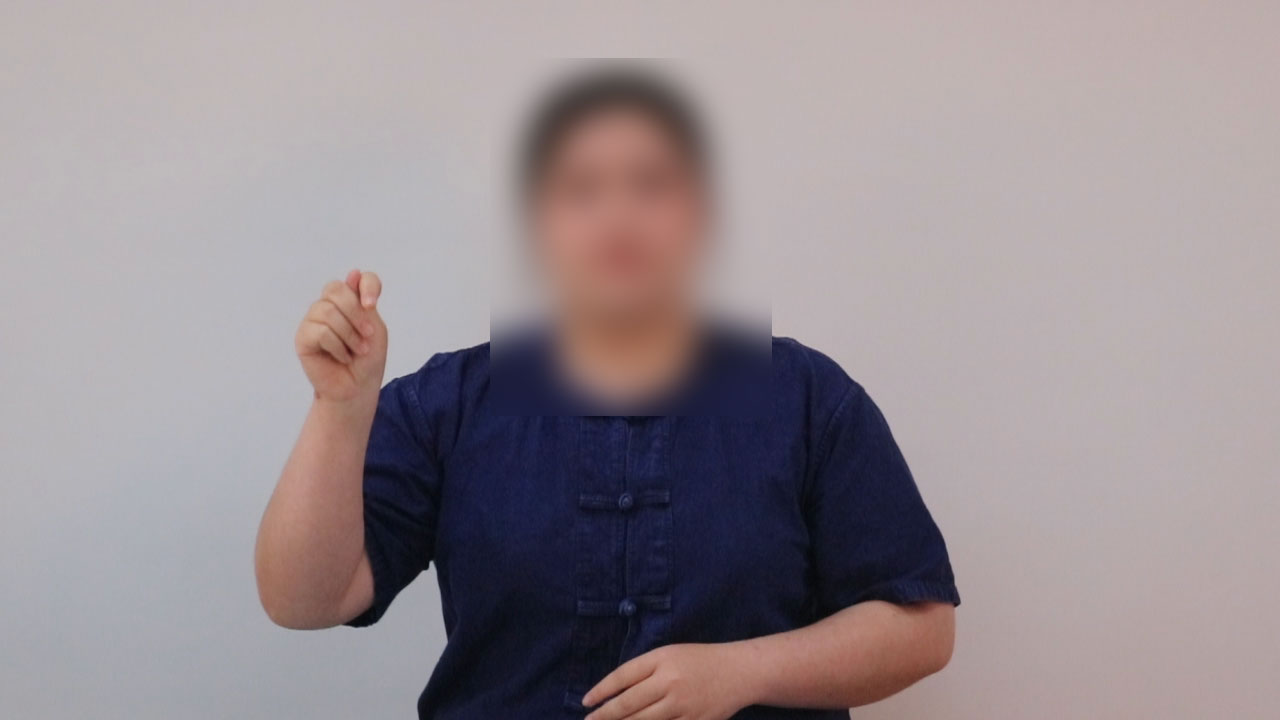tor: (273, 258, 412, 421)
